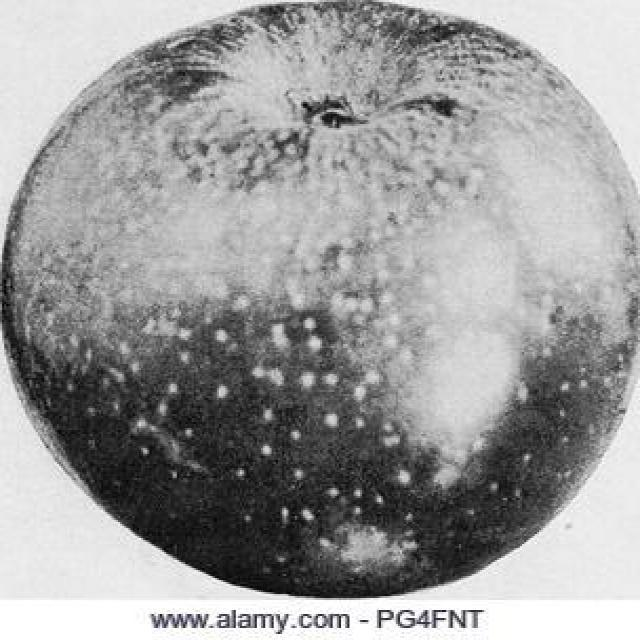Rotten: (2, 0, 640, 598)
